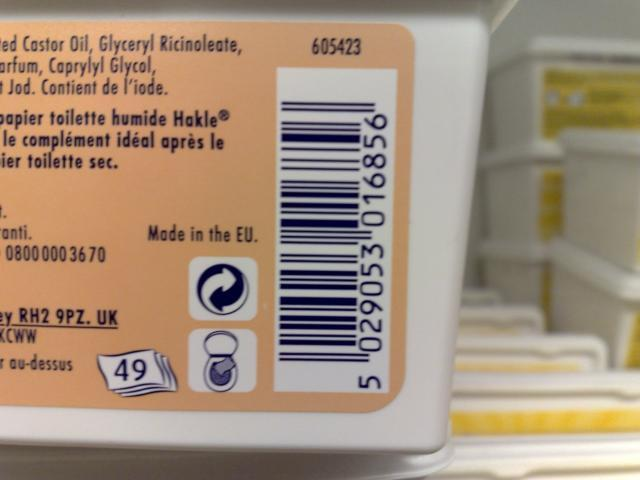Barcode: (271, 67, 399, 393)
